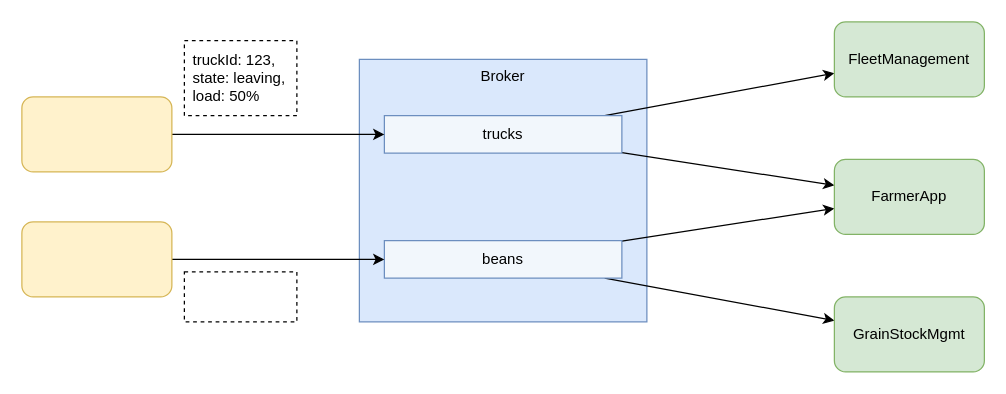
This 1006x394 diagram has some shape labels left out. The box of each missing label's shape, as (x1, y1, x2, y2) in pixels:
BeansSilo: (21, 221, 172, 297)
load: 70%: (183, 271, 297, 322)
TruckYardGate: (21, 96, 172, 172)
